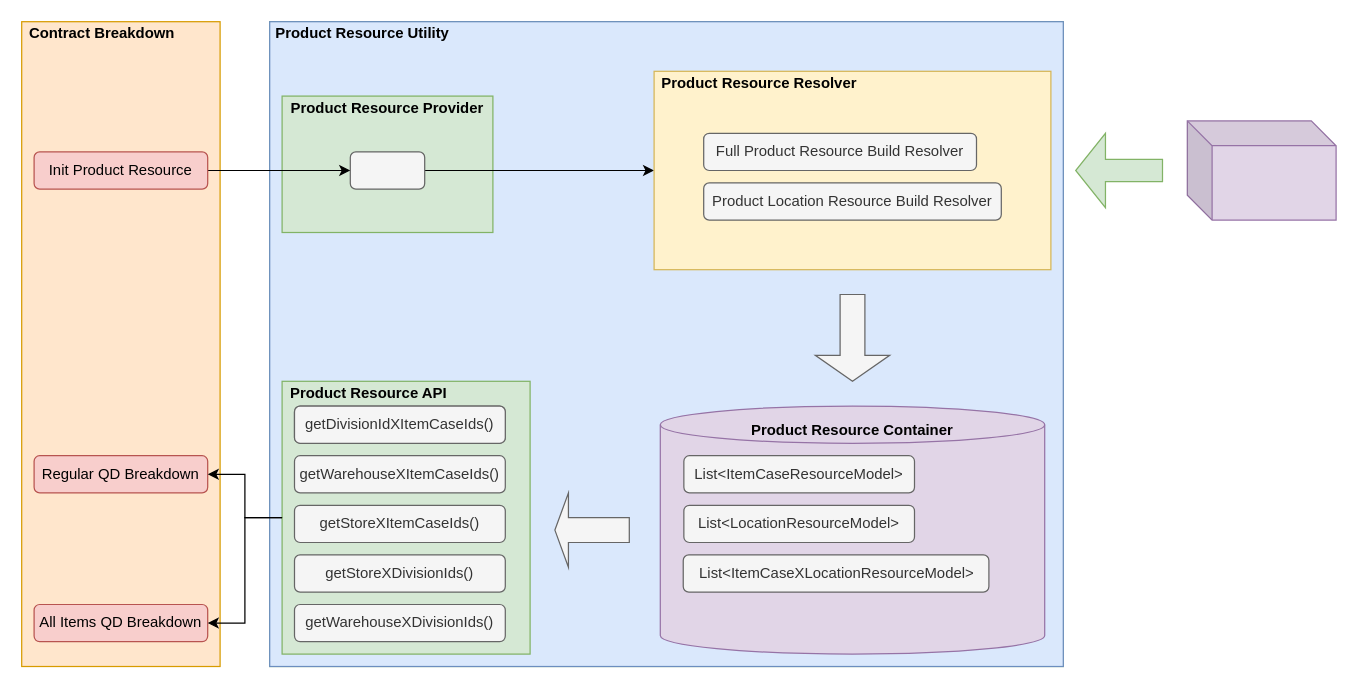
This 1358x688 diagram has some shape labels left out. Each missing label, with the box of its shape:
init(): (349, 151, 425, 189)
Product Service: (1186, 120, 1336, 220)
